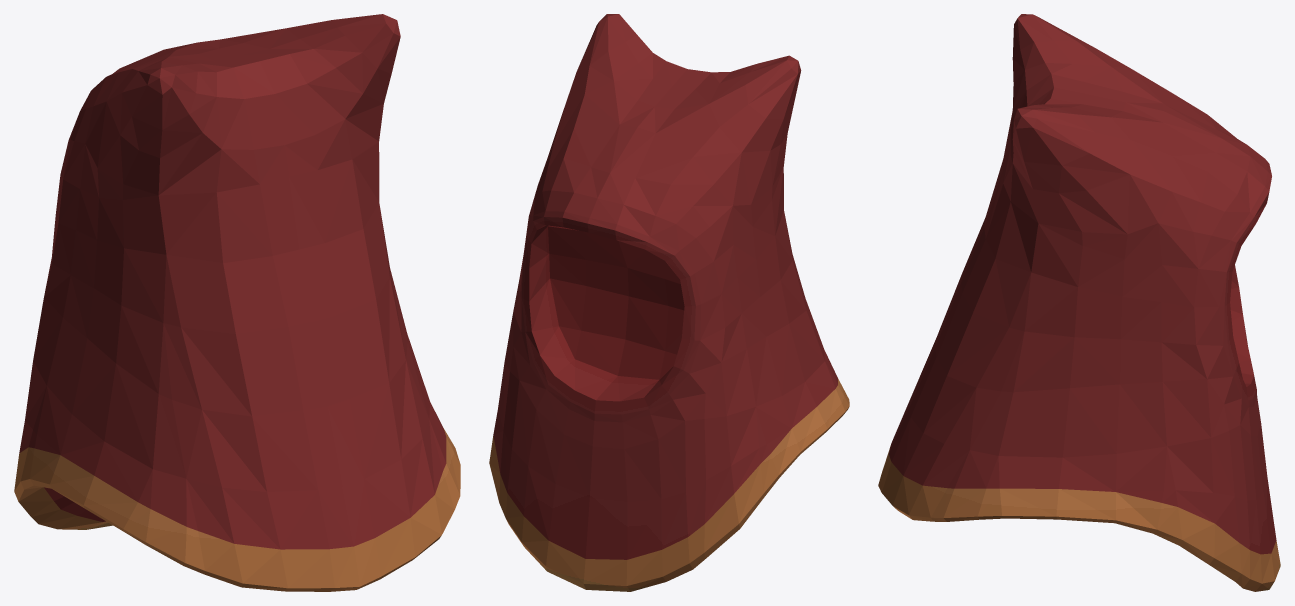
Rendered from CharSkyKid_Hair_Traveler_01.glb.
The picture shows the model from 3 angles, left to right: view 1: azimuth 30°, elevation 25°; view 2: azimuth 150°, elevation 25°; view 3: azimuth 270°, elevation 25°; orthographic projection. The views are drawn at different scales.
Parts seen in each view (by area): view 1: CharSkyKid_Hair_Traveler_01; view 2: CharSkyKid_Hair_Traveler_01; view 3: CharSkyKid_Hair_Traveler_01.
Boxes of the visible parts, <box> form: CharSkyKid_Hair_Traveler_01: <box>14,14,460,591</box>; CharSkyKid_Hair_Traveler_01: <box>489,14,849,591</box>; CharSkyKid_Hair_Traveler_01: <box>878,14,1280,591</box>.
Bounding box in the file's own units: 3.6 × 5.72 × 4.07.
Materials: 1 (1 with a texture image).
